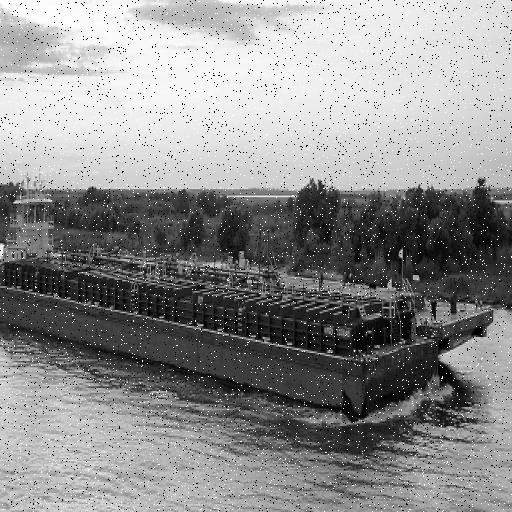tugboat: (1, 182, 62, 332)
